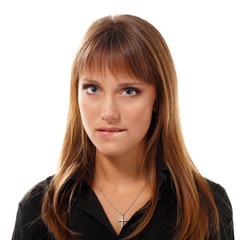teen: (67, 20, 158, 159)
